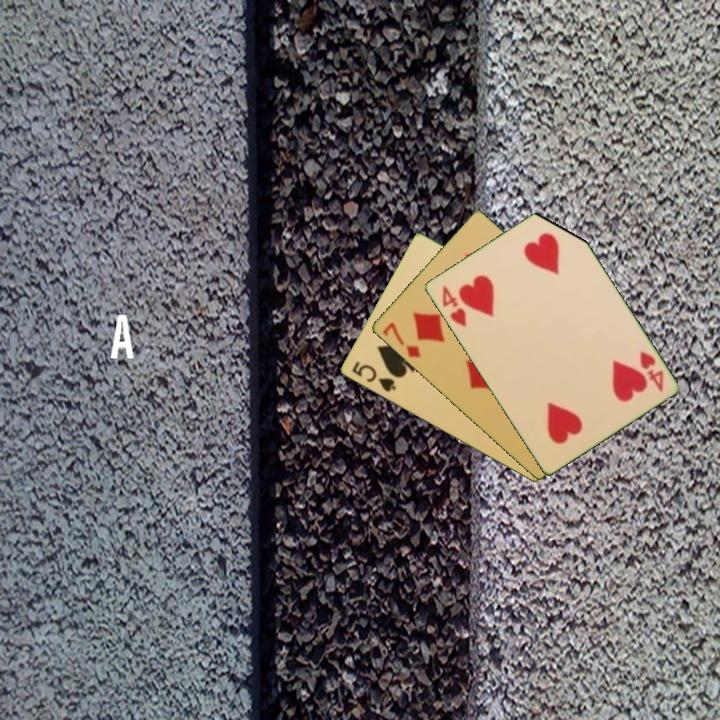4h: (438, 282, 469, 330), (636, 347, 666, 394)
5s: (348, 358, 399, 395)
7d: (378, 319, 423, 361)
